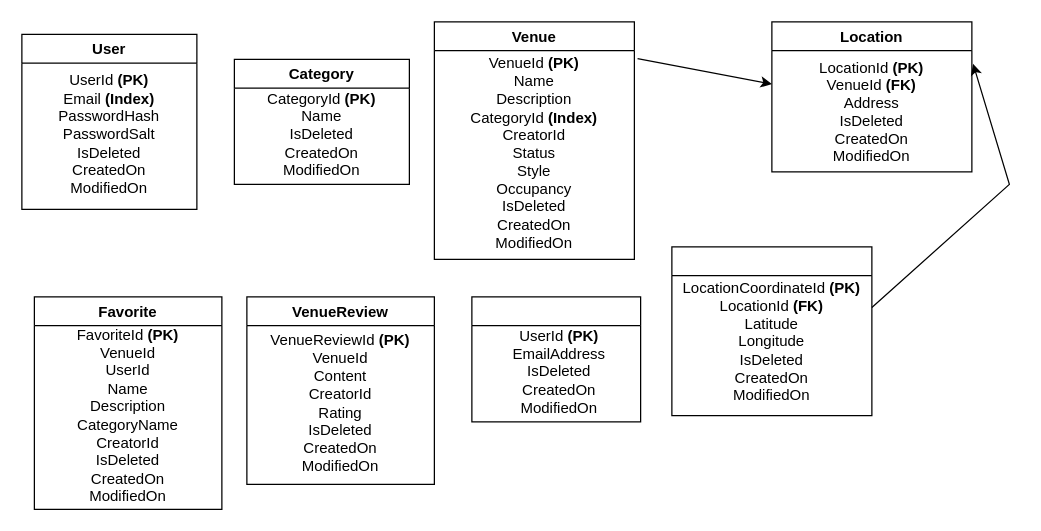
Some shapes in this 1041 by 531 pixel diagram are drawn without their labels. The shapes that lost their labels are listed below. From the top down, each one's box as (x1, y1, x2, y2) in pixels, then its label:
(671, 246, 872, 416): LocationCoordinates
(471, 296, 641, 422): UserProfile
